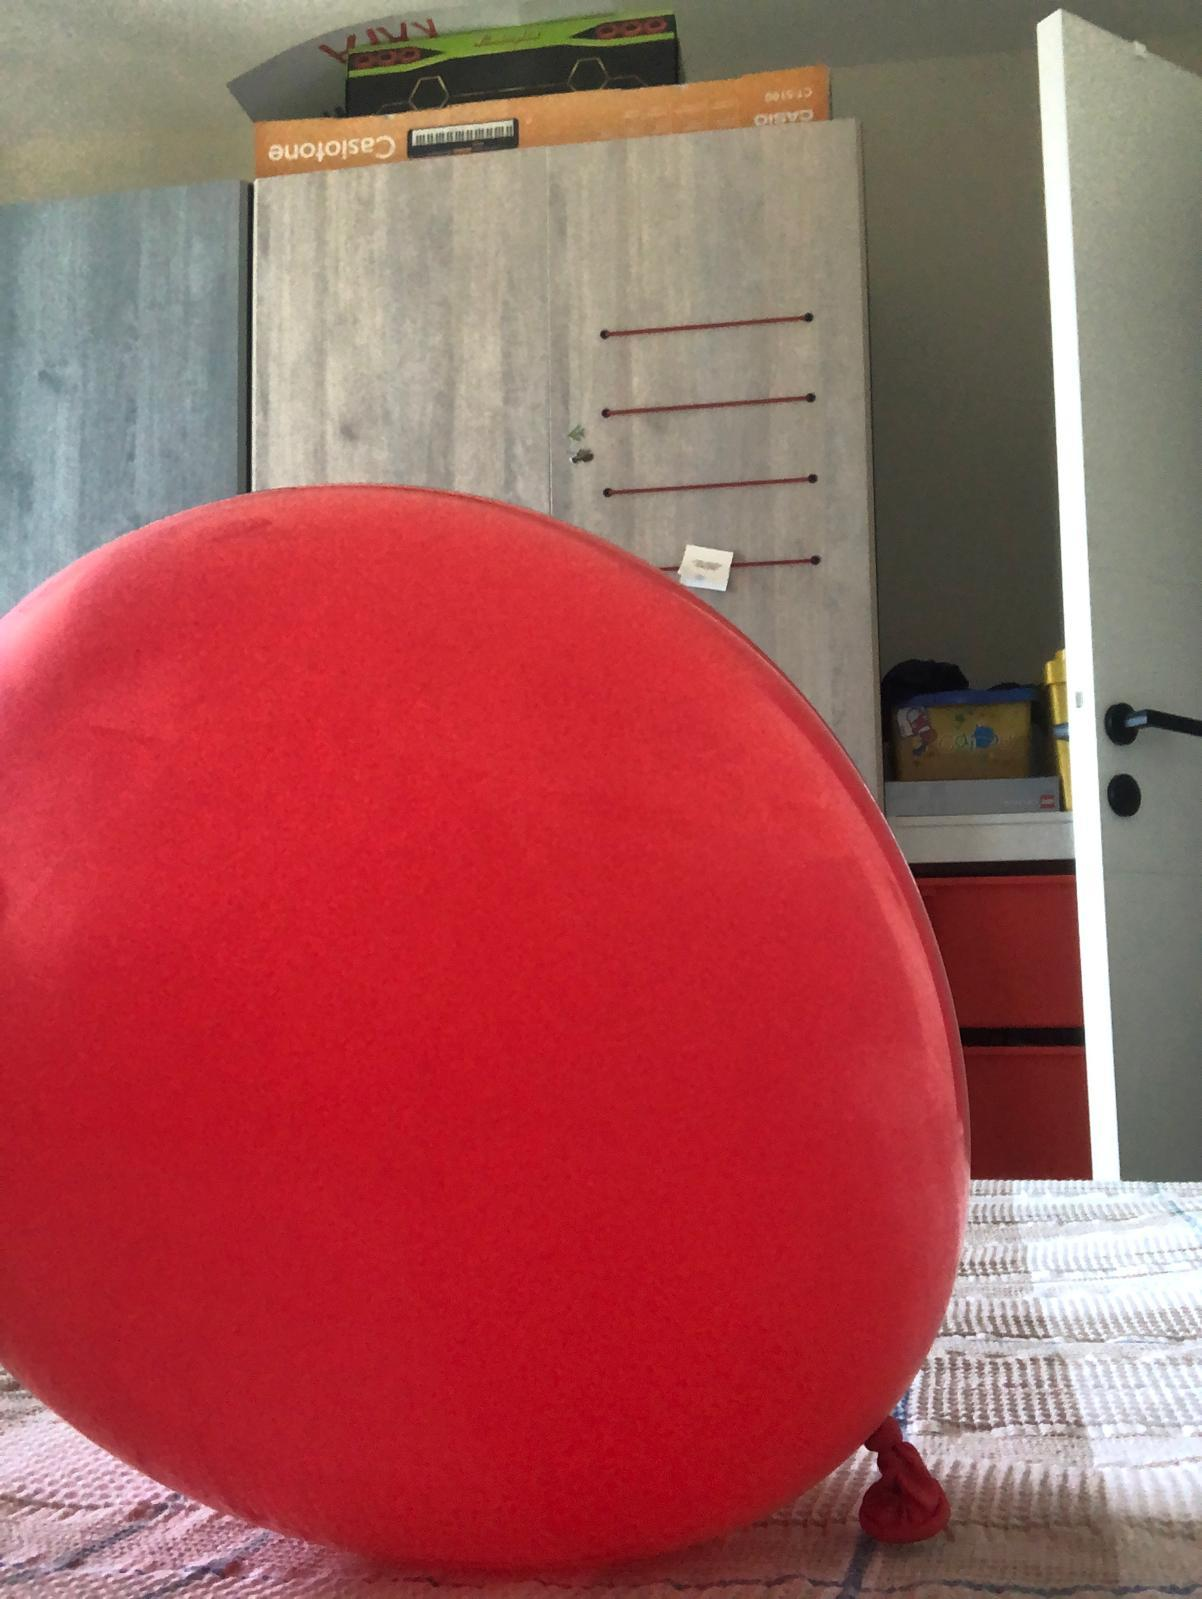red: (0, 477, 982, 1564)
